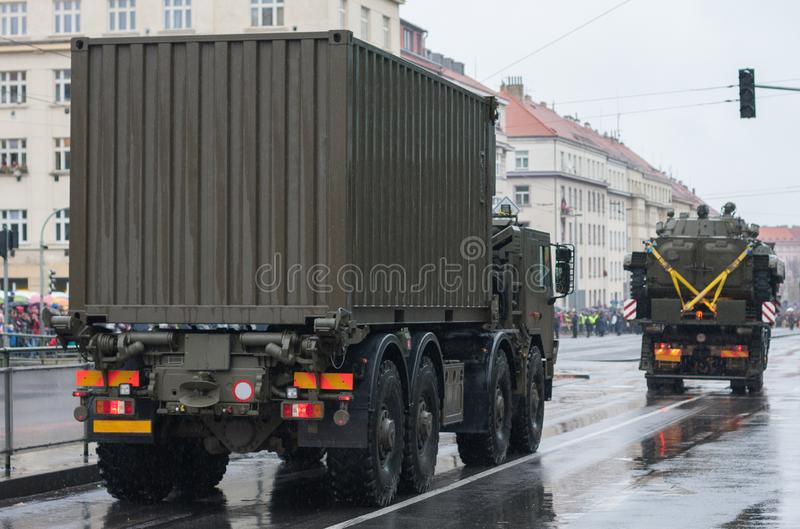camion: (69, 36, 556, 481)
